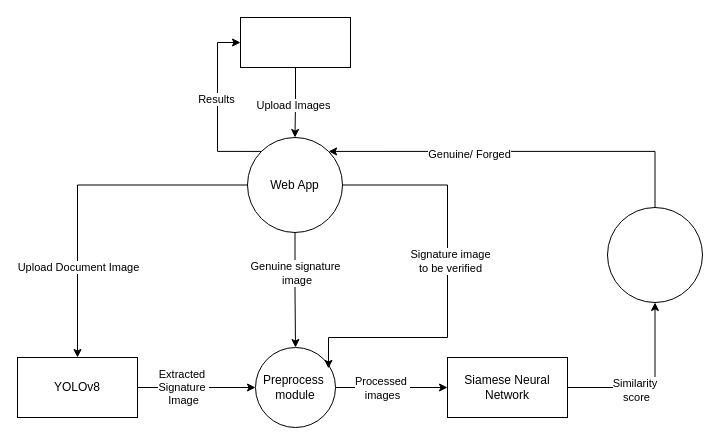
The diagram is 720 pixels wide and 445 high, and some of its shapes have lost their labels. Here are the shapes that lost their labels. From the top down, the centre of each, then its label:
the point at 295,42: User
the point at 654,254: Classification module
